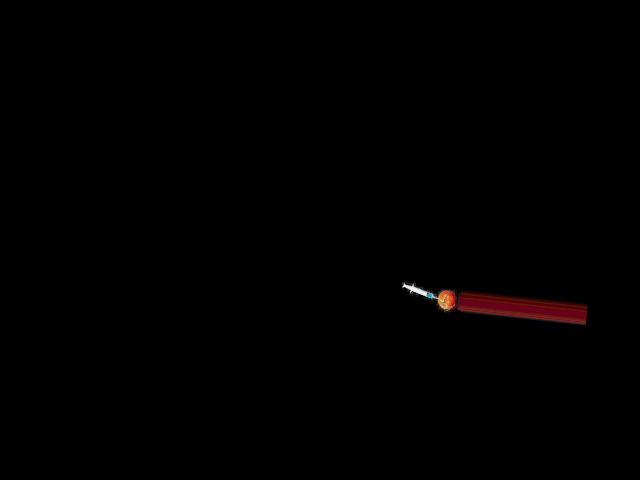tomato: (437, 289, 456, 310)
